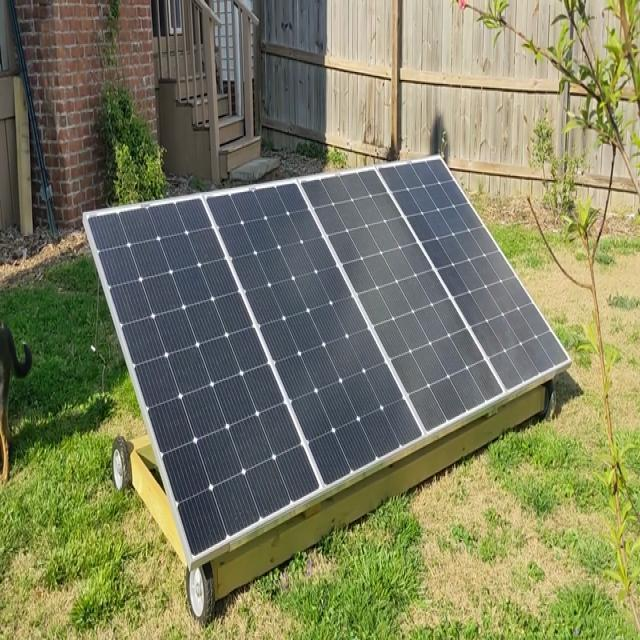Normal Solar Panel: (83, 156, 572, 560)
